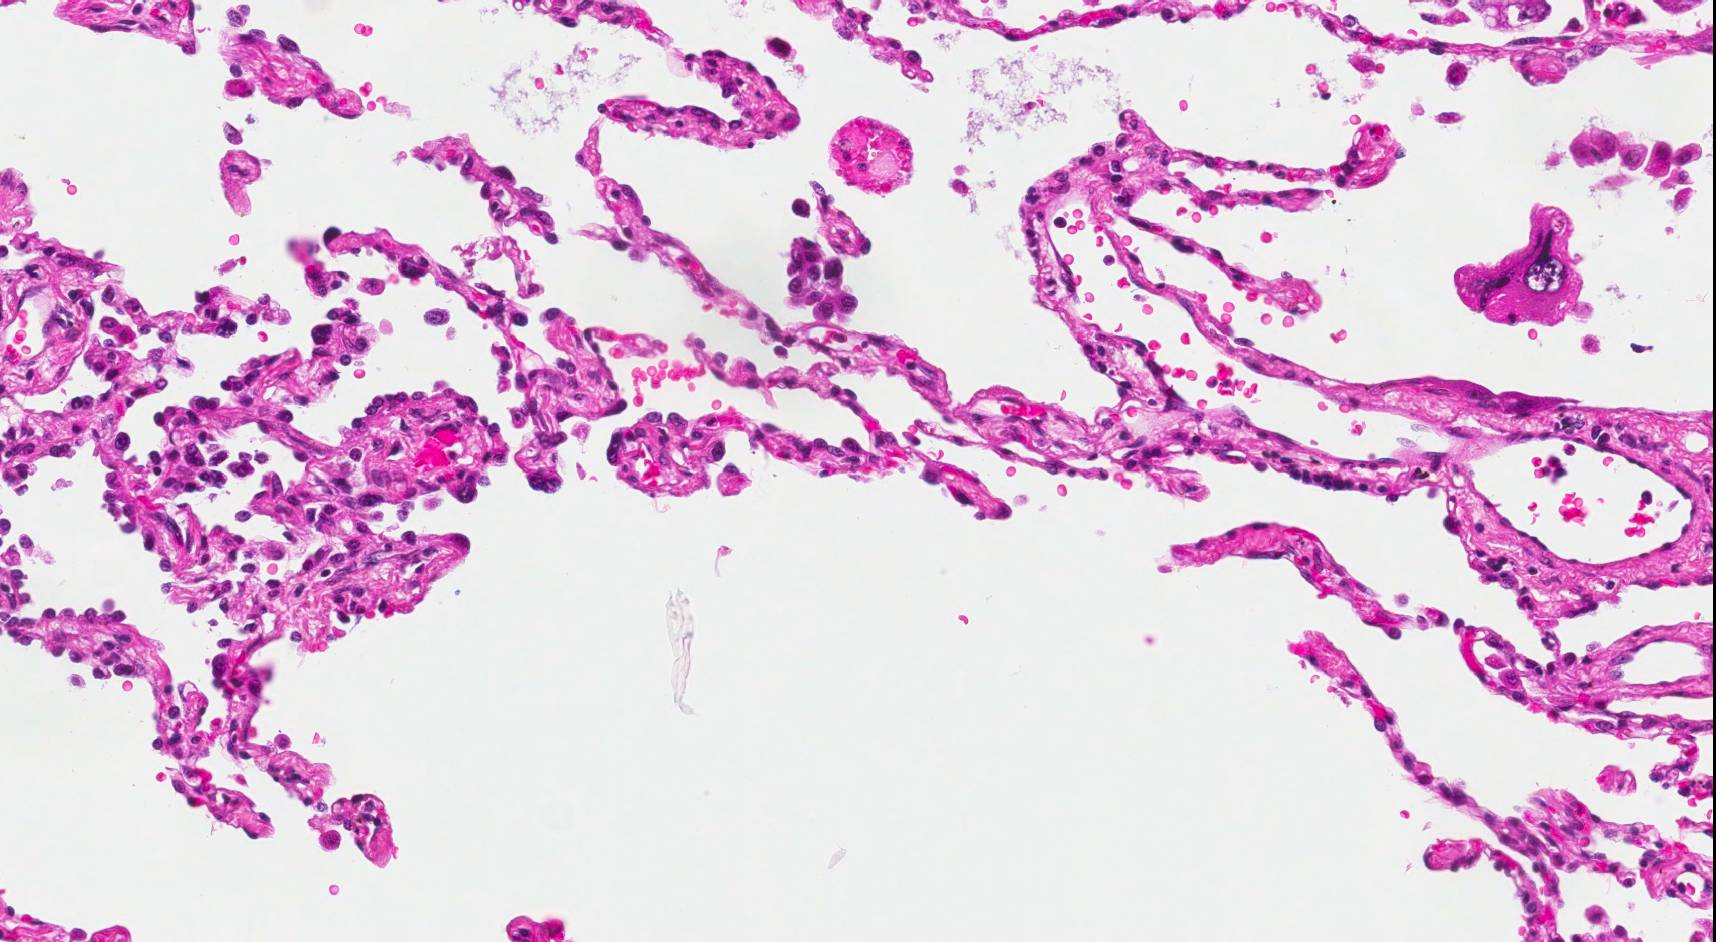stas: (1449, 207, 1599, 329), (777, 237, 863, 327)
